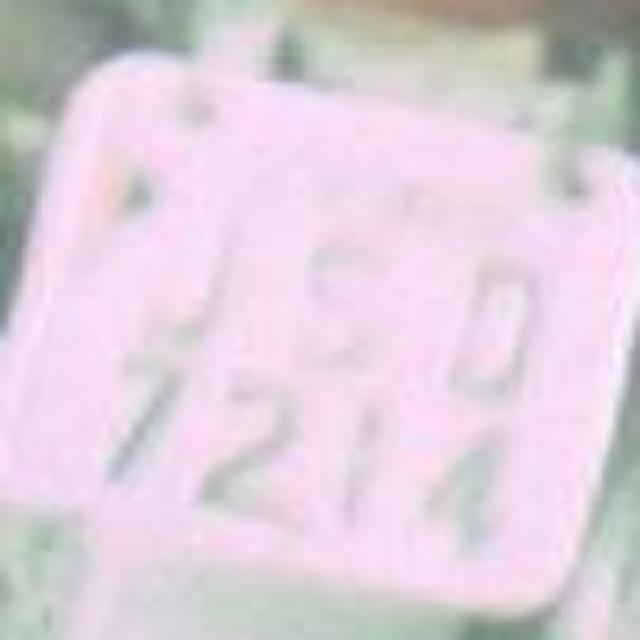2: (175, 356, 320, 549)
6: (395, 388, 540, 588)
E: (300, 372, 425, 568)
J: (132, 176, 256, 376)
O: (432, 224, 556, 416)
